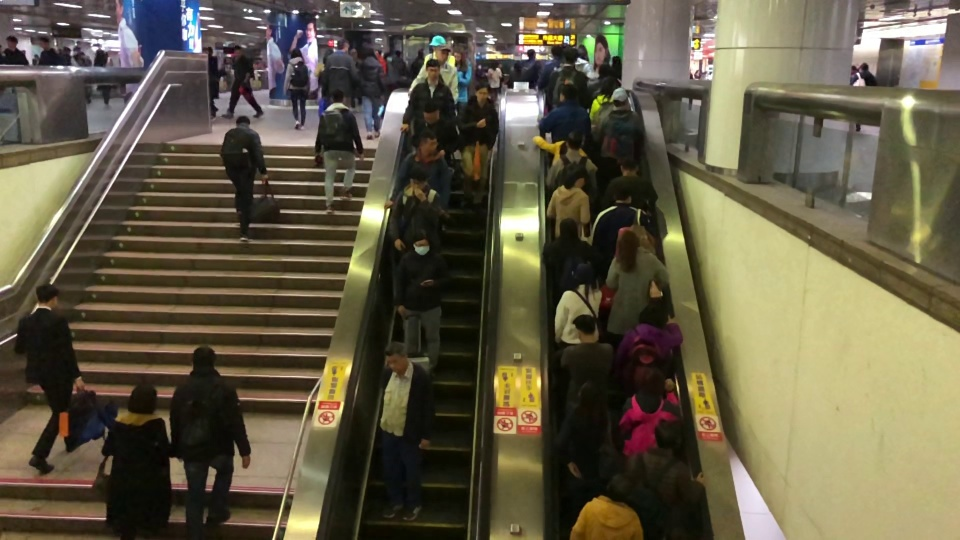person_head: (127, 382, 159, 418), (614, 230, 640, 273), (576, 380, 606, 417), (384, 339, 410, 378), (635, 367, 667, 397), (571, 313, 599, 344), (605, 472, 633, 503), (638, 302, 669, 329), (654, 417, 680, 449), (571, 262, 596, 292), (563, 163, 589, 189), (192, 344, 217, 371), (35, 282, 59, 310), (409, 162, 431, 192), (411, 228, 431, 257), (559, 217, 580, 243), (418, 131, 439, 155), (611, 86, 631, 111), (597, 76, 618, 99), (612, 181, 632, 204), (558, 82, 578, 103), (422, 101, 440, 124), (619, 156, 639, 176), (428, 34, 448, 54), (425, 58, 441, 82), (435, 43, 451, 64), (473, 82, 489, 103), (565, 131, 582, 150), (563, 47, 579, 67), (451, 45, 466, 65), (610, 55, 623, 78), (598, 62, 614, 80), (329, 88, 346, 104), (576, 44, 590, 61), (290, 47, 305, 61), (337, 37, 350, 53), (235, 115, 250, 128), (550, 44, 562, 60), (6, 35, 18, 50), (38, 36, 51, 49), (382, 51, 393, 62), (858, 62, 869, 73), (366, 47, 376, 59), (349, 47, 358, 60), (233, 43, 242, 55), (527, 48, 536, 60), (416, 48, 424, 58), (491, 61, 498, 70), (395, 49, 402, 57), (375, 49, 382, 56), (497, 61, 503, 68)
person_vbox: (169, 344, 252, 538), (93, 383, 178, 540), (17, 282, 85, 473), (626, 418, 709, 540), (381, 341, 437, 519), (389, 161, 452, 300), (392, 230, 449, 376), (604, 230, 670, 350), (314, 87, 366, 215), (551, 381, 614, 486), (220, 115, 269, 243), (552, 314, 614, 415), (617, 366, 684, 458), (614, 304, 684, 387), (384, 134, 453, 215), (456, 83, 499, 210), (569, 471, 645, 540), (592, 181, 652, 268), (543, 217, 593, 306), (398, 58, 455, 134), (552, 263, 603, 344), (599, 86, 646, 164), (545, 130, 598, 197), (546, 166, 591, 240), (220, 42, 263, 119), (538, 83, 592, 143), (600, 158, 658, 213), (406, 43, 459, 103), (544, 46, 588, 109), (410, 103, 459, 156), (326, 38, 361, 108), (359, 47, 384, 139), (282, 46, 309, 130), (851, 63, 877, 135), (532, 137, 593, 165), (452, 43, 473, 114), (589, 77, 619, 124), (587, 63, 621, 100), (537, 45, 564, 89), (423, 35, 456, 68), (521, 47, 544, 88), (348, 47, 363, 108), (576, 43, 599, 80), (37, 35, 65, 65), (3, 34, 29, 65), (408, 47, 425, 81), (487, 61, 503, 95), (391, 46, 407, 75), (496, 60, 509, 95), (374, 47, 388, 74)
